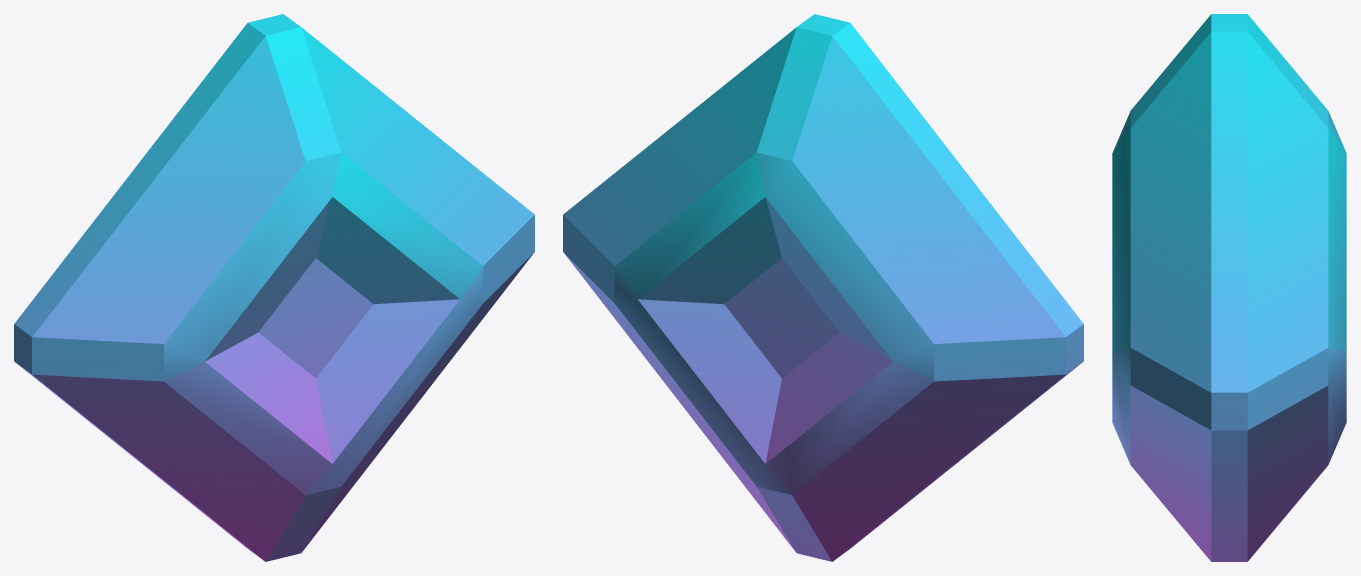
Rendered from gem-large.glb.
3 renders of one model, left to right at view 1: azimuth 30°, elevation 25°; view 2: azimuth 150°, elevation 25°; view 3: azimuth 270°, elevation 25°, orthographic.
Parts seen in each view (by area): view 1: Gem_Large; view 2: Gem_Large; view 3: Gem_Large.
Boxes of the visible parts, bbox=[...] form: Gem_Large: bbox=[14, 14, 534, 561]; Gem_Large: bbox=[563, 14, 1083, 561]; Gem_Large: bbox=[1112, 14, 1346, 561].
Size of the model in its own units: 0.75 by 0.75 by 0.3.
1 material, 1 textured.
